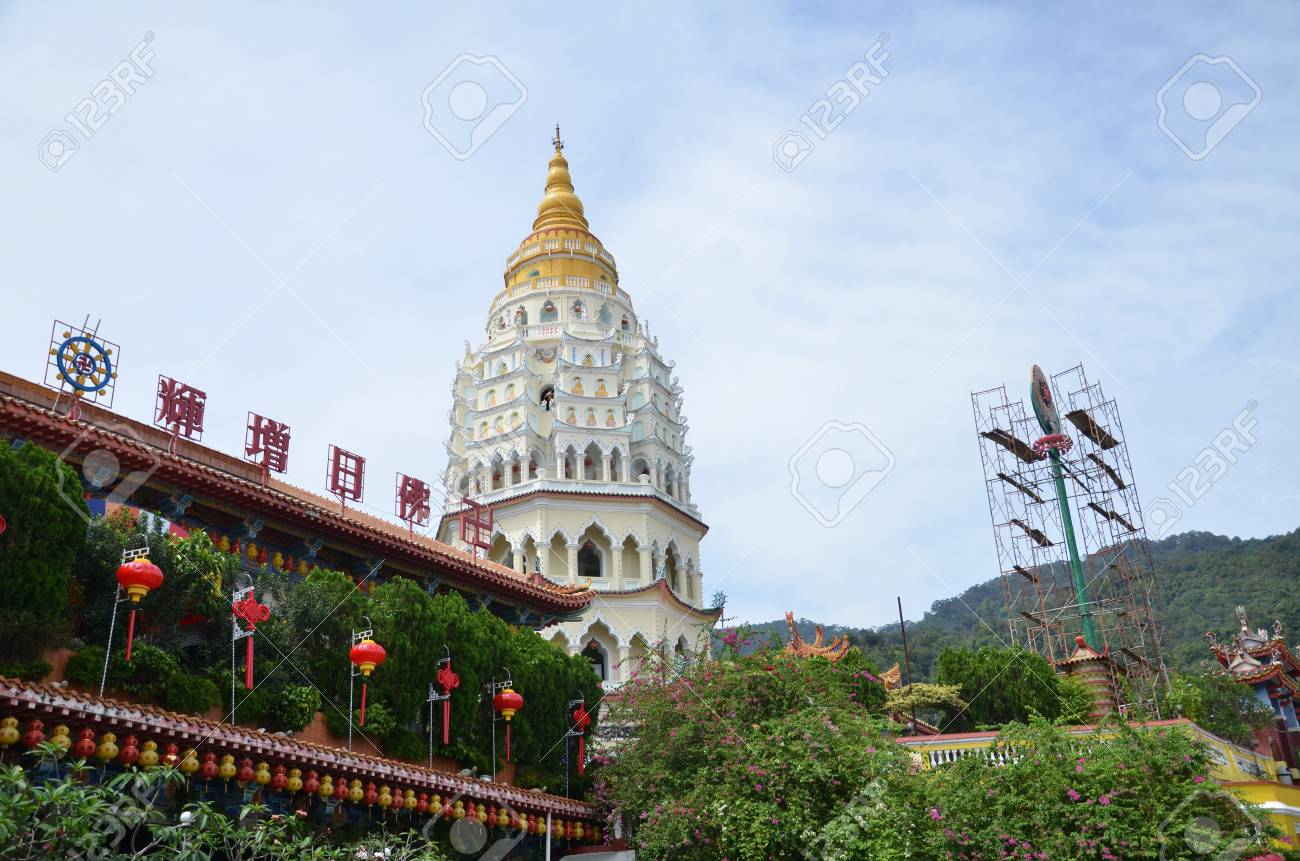Buddhist Temple: (427, 105, 710, 652)
